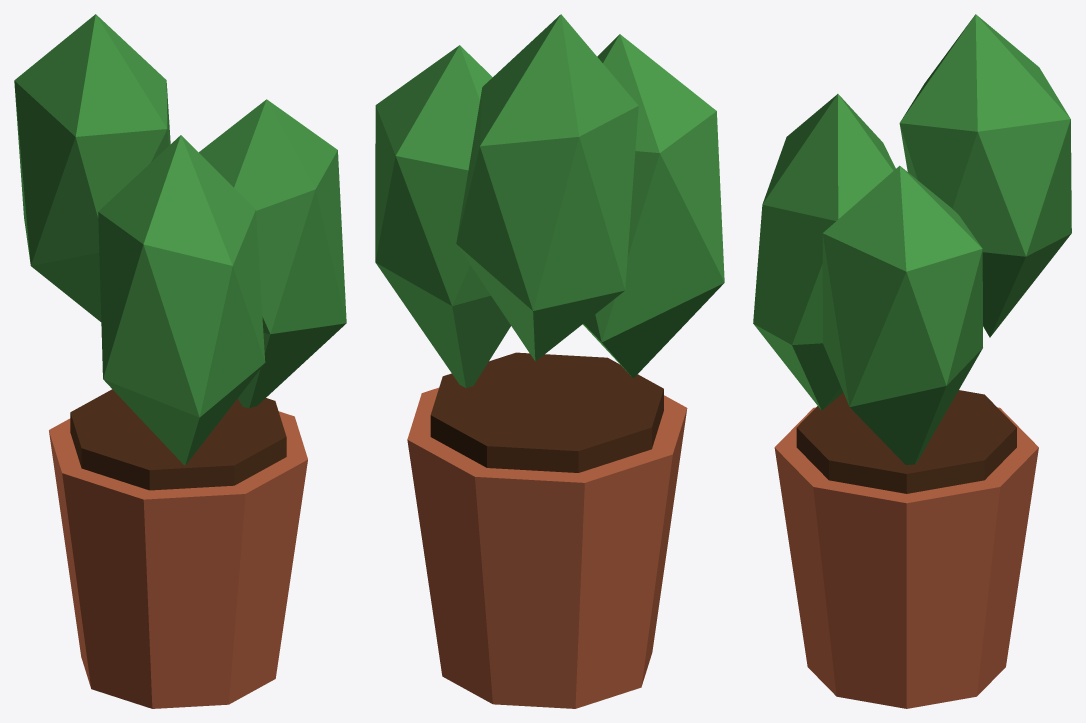
Rendered from office_plant.glb.
The picture shows the model from 3 angles, left to right: view 1: azimuth 30°, elevation 25°; view 2: azimuth 150°, elevation 25°; view 3: azimuth 270°, elevation 25°; orthographic projection. The views are drawn at different scales.
Visible parts, largest first — view 1: office_plant; view 2: office_plant; view 3: office_plant.
Part boxes in pixels (x1,y1,x2,y2): office_plant: [14, 14, 346, 708]; office_plant: [375, 14, 724, 708]; office_plant: [753, 14, 1071, 708].
Bounding box in the file's own units: 0.2881 × 0.6311 × 0.2893.
